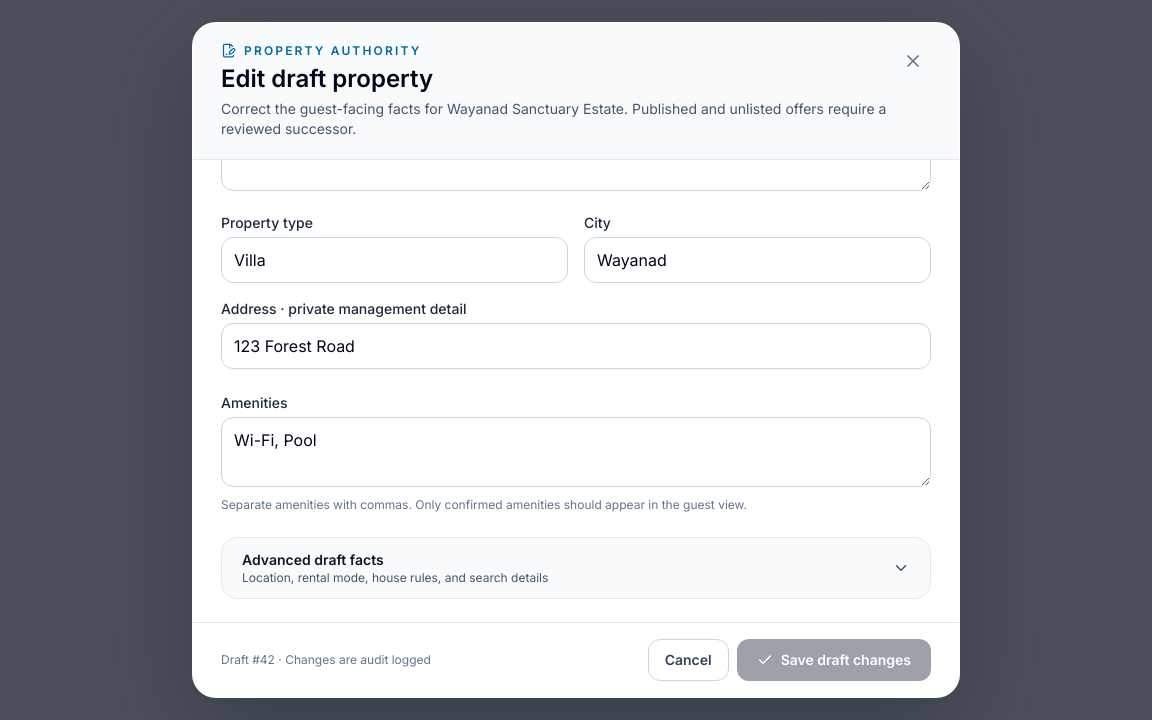
Test: Admin draft property editor › fails closed when the authoritative read omits an edited field needed for CAS
(page scrolled)
Click the button "Advanced draft facts" at [313, 559], box [222,538,930,598]
(page scrolled)
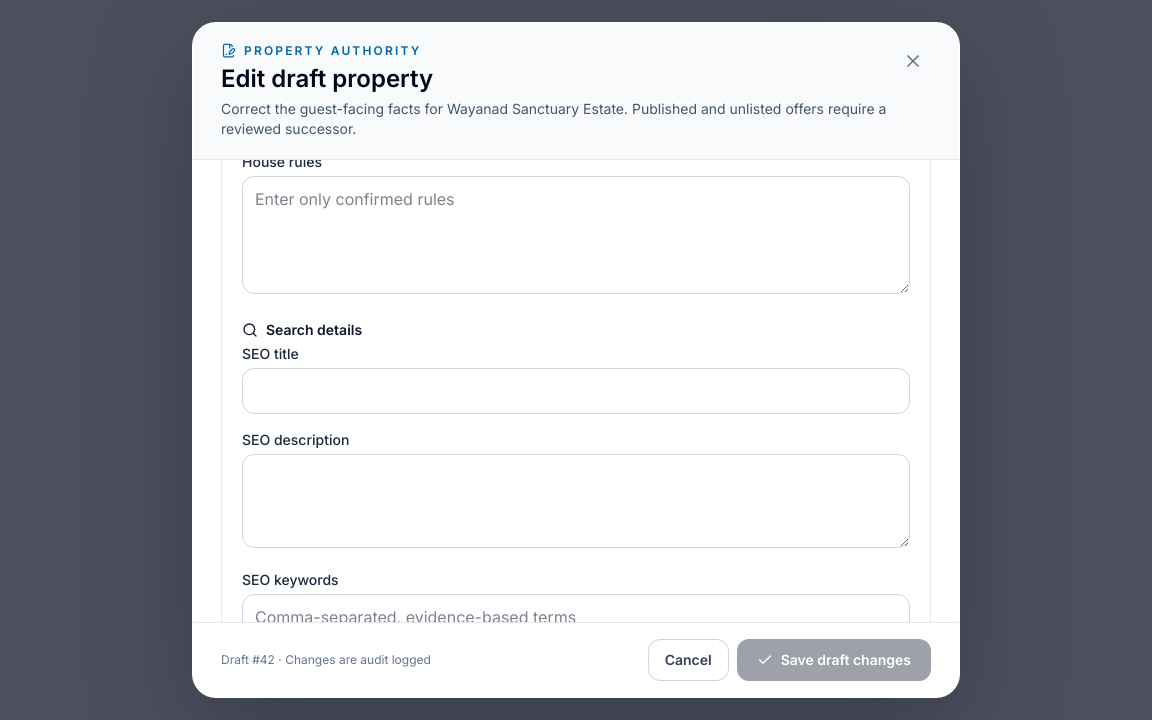
Type "Verified Wayanad stay" into the field labelled "SEO title" at [576, 391], box [242,368,910,414]
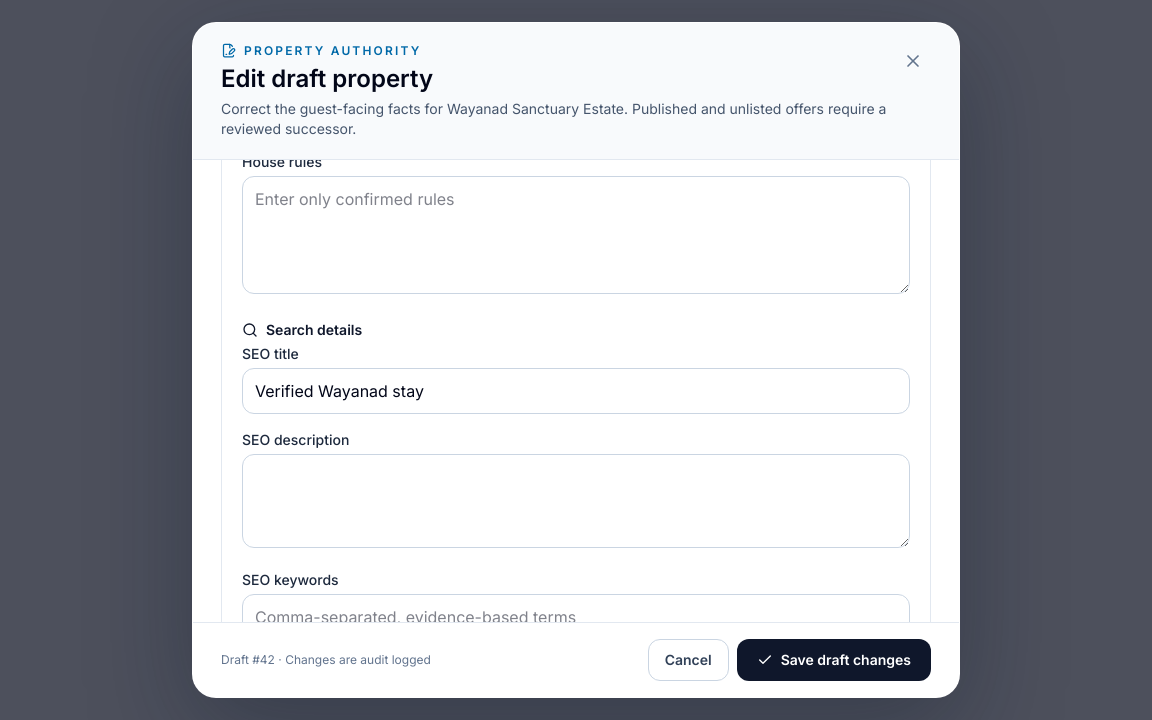
Click the button "Save draft changes" at [834, 660], box [737,639,931,681]
(page scrolled)
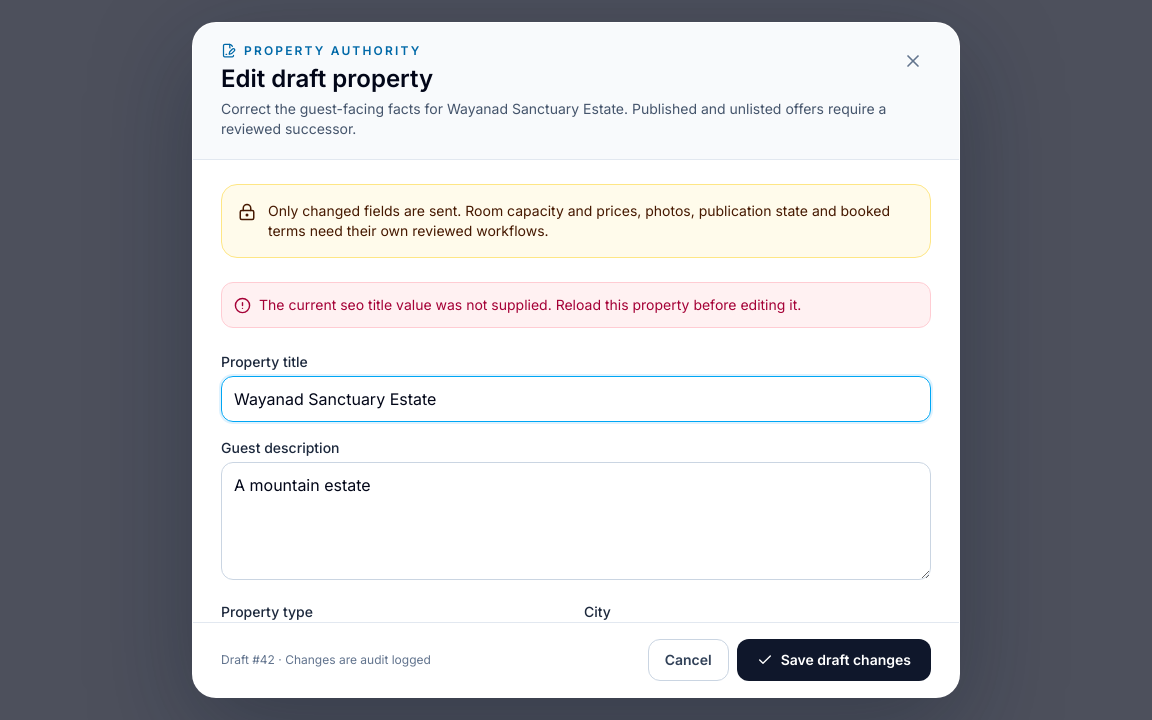
Expected: the message shows "The current seo title value was not supplied. Reload this property before editing it.", [259,296,801,313]
